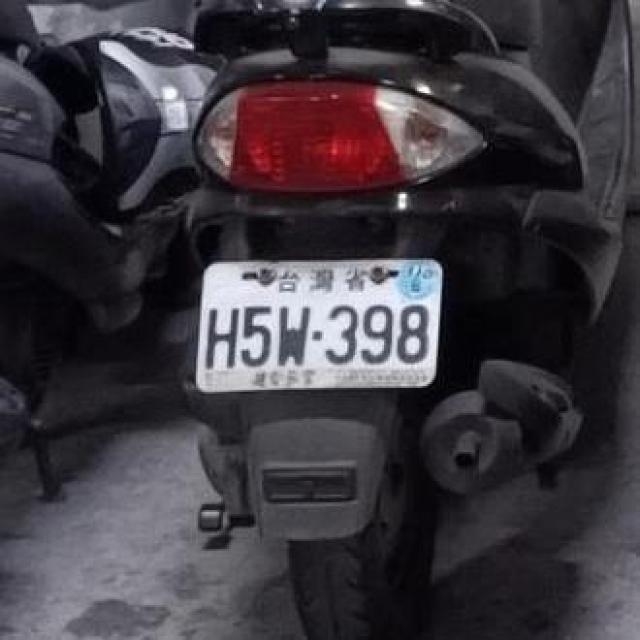W: (186, 244, 454, 402)
